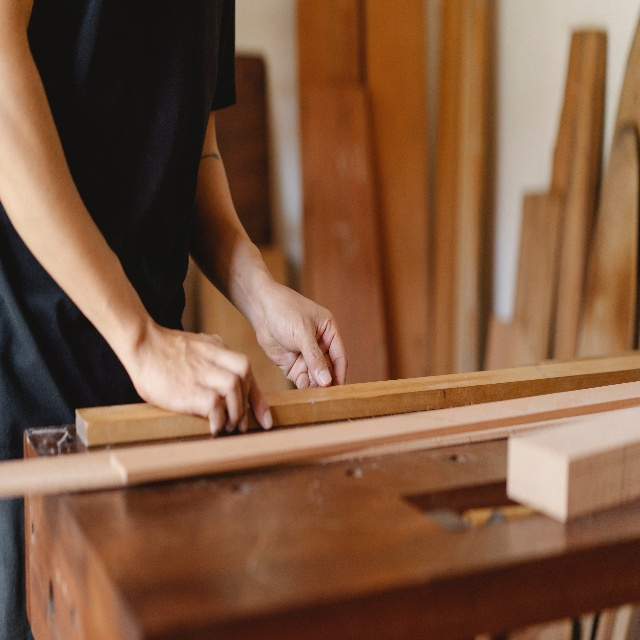Sin_guantes: (127, 326, 273, 437), (255, 282, 348, 389)
